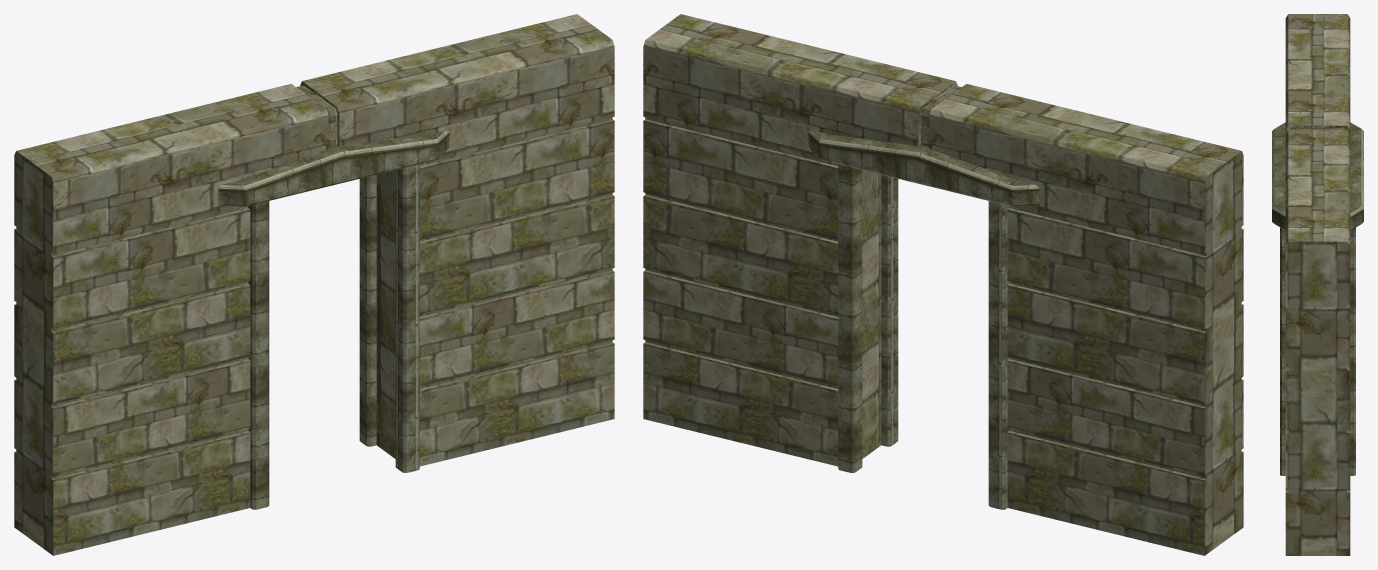
Rendered from wall-door-02.fbx.
3 renders of one model, left to right at view 1: azimuth 30°, elevation 25°; view 2: azimuth 150°, elevation 25°; view 3: azimuth 270°, elevation 25°, orthographic. The views are drawn at different scales.
Visible parts, largest first — view 1: Cube.162; view 2: Cube.162; view 3: Cube.162.
Boxes of the visible parts, x1,y1,x2,y2 form: Cube.162: (14,14,614,555); Cube.162: (643,14,1243,555); Cube.162: (1272,14,1363,555).
Size of the model in its own units: 3.73 by 2.4 by 0.6355.
